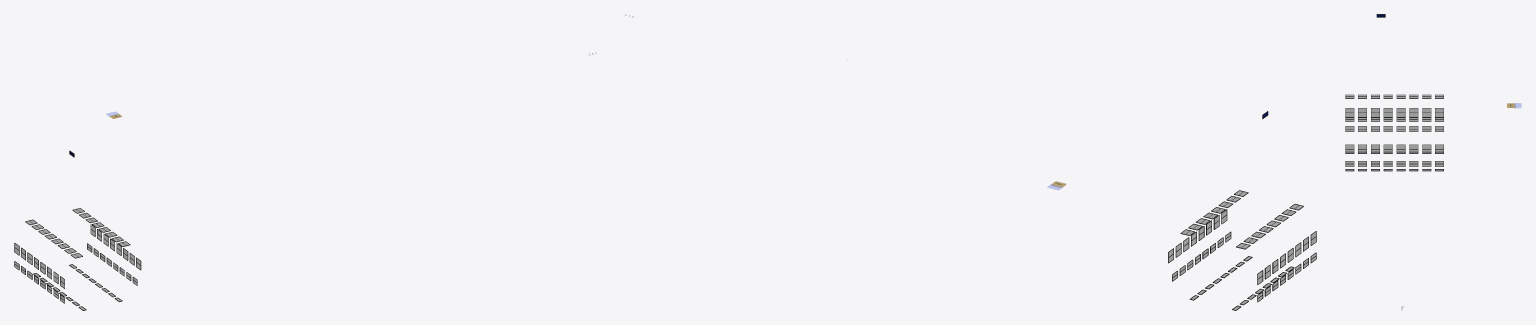
The model's file is environments.glb.
The picture shows the model from 3 angles, left to right: view 1: azimuth 30°, elevation 25°; view 2: azimuth 150°, elevation 25°; view 3: azimuth 270°, elevation 25°; orthographic projection. The views are drawn at different scales.
Visible parts, largest first — view 1: Object_48, Object_47; view 2: Object_48, Object_47; view 3: Object_47, Object_48.
Part boxes in pixels (bbox=[...]): Object_48: bbox=[14, 208, 141, 310]; Object_47: bbox=[15, 208, 140, 309]; Object_48: bbox=[1168, 190, 1316, 310]; Object_47: bbox=[1168, 191, 1315, 309]; Object_47: bbox=[1345, 94, 1443, 170]; Object_48: bbox=[1345, 94, 1443, 171].
Bounding box in the file's own units: 5968 × 1671 × 1651.
40 materials, 2 textured.
